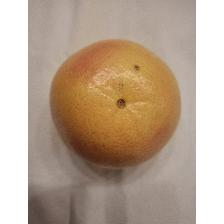Pampelmuse: (49, 36, 184, 173)
